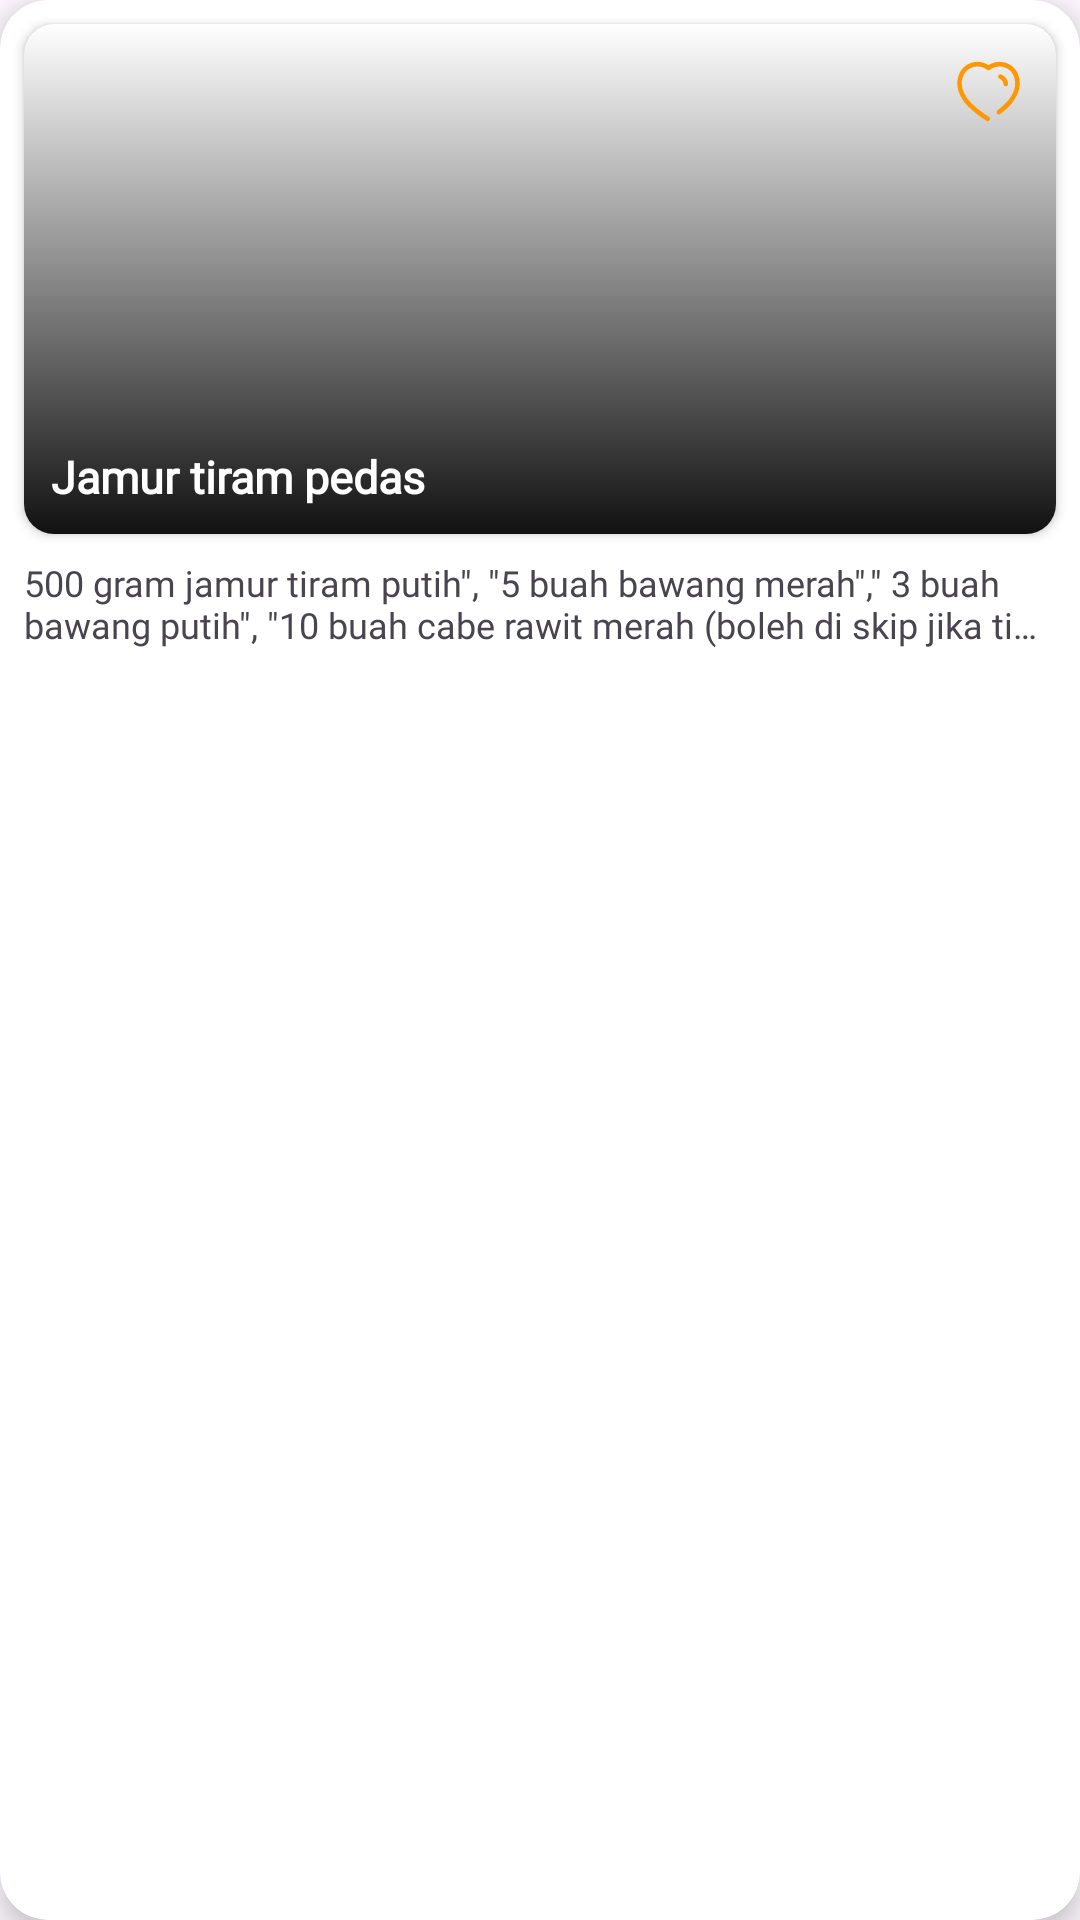

Screen size 1080px×1920px. Icon name, then its center in pixels as (x=x, y=y):
Favorite: (x=988, y=91)
